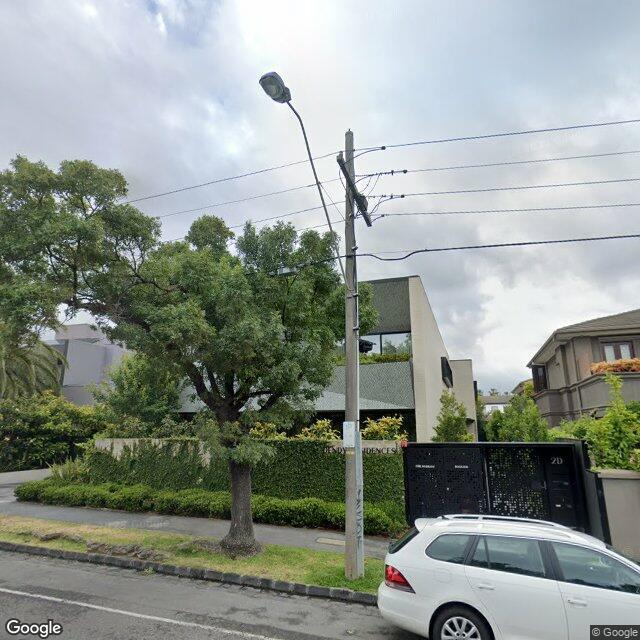crossarm: (336, 146, 408, 228)
streetlight: (258, 72, 349, 290)
timber-pole: (345, 130, 365, 582)
